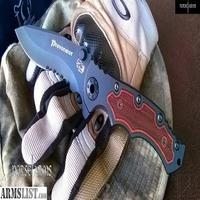knife: (10, 16, 179, 159)
